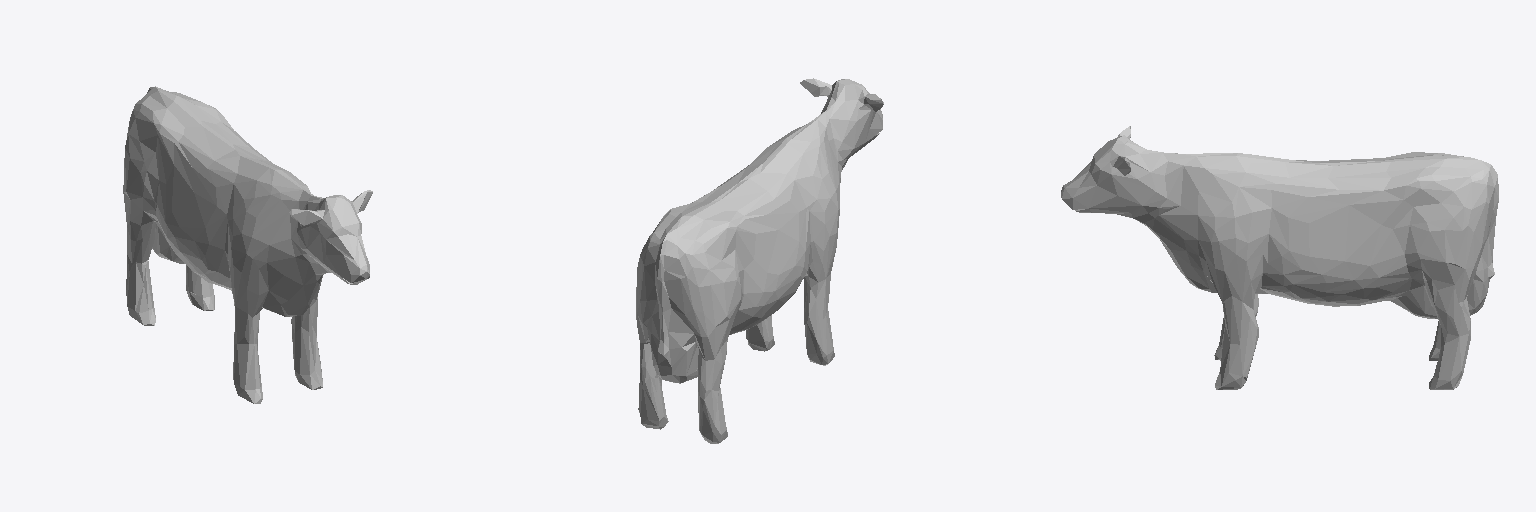
File: Cow.obj
3 renders of one model, left to right at view 1: azimuth 30°, elevation 25°; view 2: azimuth 150°, elevation 25°; view 3: azimuth 270°, elevation 25°, orthographic.
Visible parts, largest first — view 1: Cow:cow; view 2: Cow:cow; view 3: Cow:cow.
Boxes of the visible parts, <box> form: Cow:cow: <box>123,86,372,403</box>; Cow:cow: <box>636,78,883,443</box>; Cow:cow: <box>1061,126,1498,389</box>.
Size of the model in its own units: 4.58 by 11.63 by 19.61.